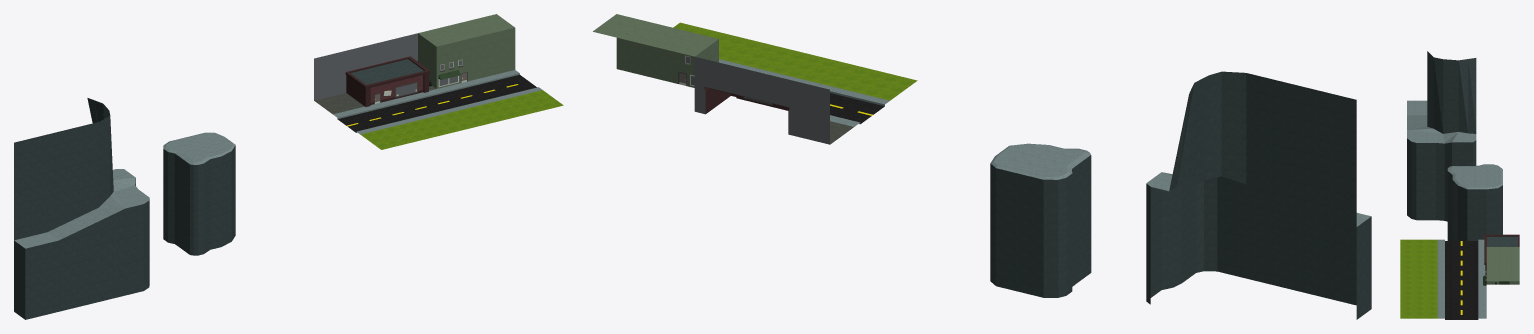
Rendered from trailer.glb.
3 renders of one model, left to right at view 1: azimuth 30°, elevation 25°; view 2: azimuth 150°, elevation 25°; view 3: azimuth 270°, elevation 25°, orthographic. The views are drawn at different scales.
Parts seen in each view (by area): view 1: SketchUp.004, SketchUp.001, SketchUp.002, SketchUp.033, SketchUp.032, SketchUp.012, SketchUp.056, SketchUp, SketchUp.003, SketchUp.028, SketchUp.005, SketchUp.030 (+3 smaller); view 2: SketchUp.001, SketchUp.004, SketchUp.002, SketchUp.032, SketchUp.056, SketchUp.033, SketchUp.003, SketchUp.012, SketchUp.006, SketchUp.028; view 3: SketchUp.004, SketchUp.001, SketchUp.032, SketchUp.002, SketchUp.012, SketchUp, SketchUp.033, SketchUp.003, SketchUp.006, SketchUp.005, SketchUp.030, SketchUp.028.
Part boxes in pixels (x1,y1,x2,y2): SketchUp.004: (14,178,149,319); SketchUp.001: (14,98,113,240); SketchUp.002: (163,145,235,255); SketchUp.033: (418,14,515,88); SketchUp.032: (360,90,563,149); SketchUp.012: (337,75,536,132); SketchUp.056: (314,33,417,100); SketchUp: (14,169,149,248); SketchUp.003: (163,132,235,164); SketchUp.028: (345,56,430,106); SketchUp.005: (333,70,519,118); SketchUp.030: (350,59,423,84); SketchUp.001: (1169,71,1356,226); SketchUp.004: (1146,176,1371,319); SketchUp.002: (990,155,1091,297); SketchUp.032: (673,22,917,100); SketchUp.056: (694,57,829,144); SketchUp.033: (593,14,718,87); SketchUp.003: (990,143,1090,179); SketchUp.012: (830,93,884,123); SketchUp.006: (719,59,889,106); SketchUp.028: (704,87,789,113); SketchUp.004: (1407,138,1476,221); SketchUp.001: (1427,51,1476,133); SketchUp.032: (1400,239,1437,318); SketchUp.002: (1447,171,1502,240); SketchUp.012: (1445,241,1478,319); SketchUp: (1407,100,1476,143); SketchUp.033: (1486,247,1519,284); SketchUp.003: (1447,164,1502,189); SketchUp.006: (1437,239,1444,318); SketchUp.005: (1478,239,1486,318); SketchUp.030: (1487,236,1517,246); SketchUp.028: (1484,234,1519,274).
Size of the model in its own units: 271 by 81.87 by 59.11.
15 materials, 9 textured.
